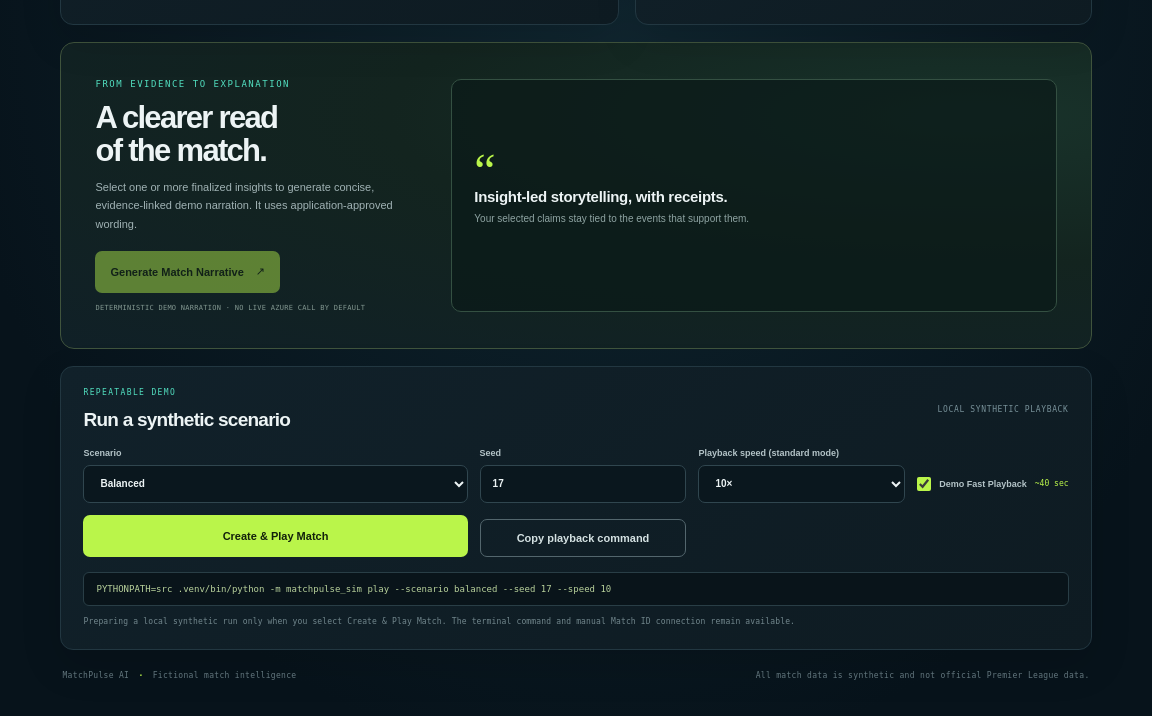
Test: dashboard › shows a safe startup error and stays disconnected when playback capacity is full
(page scrolled)
What coordinates should you click on to do the following:
click the button "Create & Play Match"
I would click on:
 (276, 536)
Its box is [84,515,468,557].
(page scrolled)
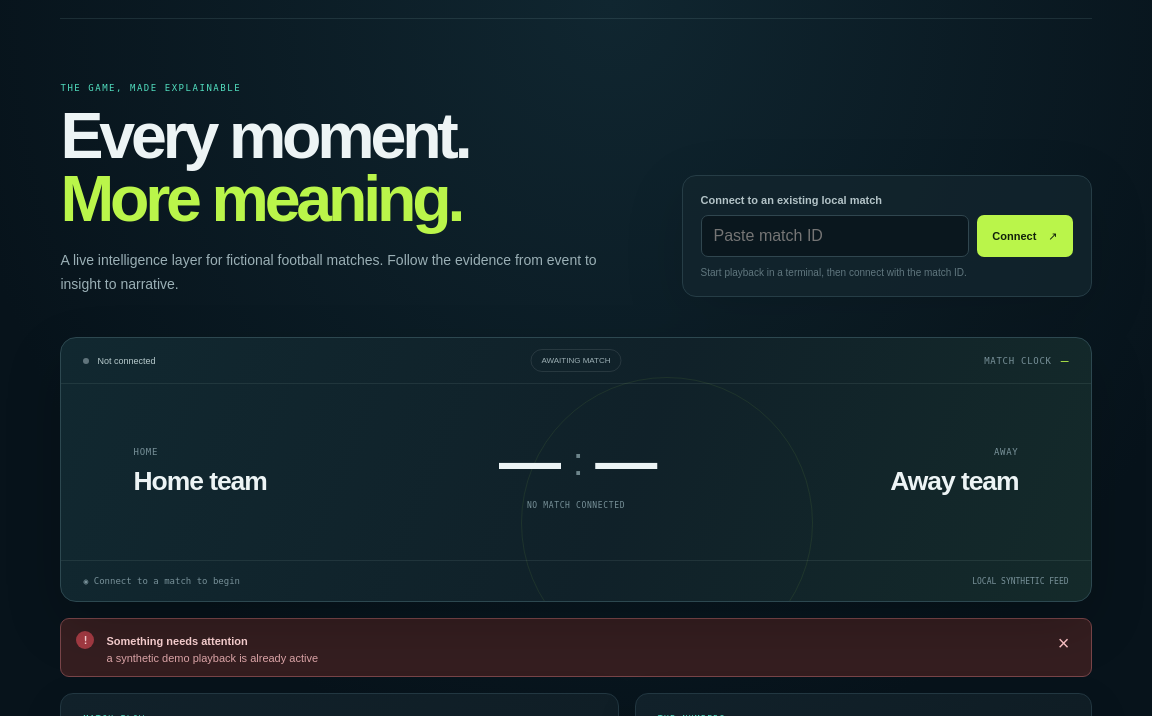
Expected: the text "AWAITING MATCH" is shown, [530,349,622,372]
Result: the message shows "a synthetic demo playback is already active" at [106,652,318,664]
